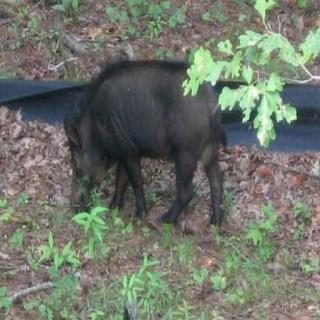Pig: (58, 31, 232, 230)
